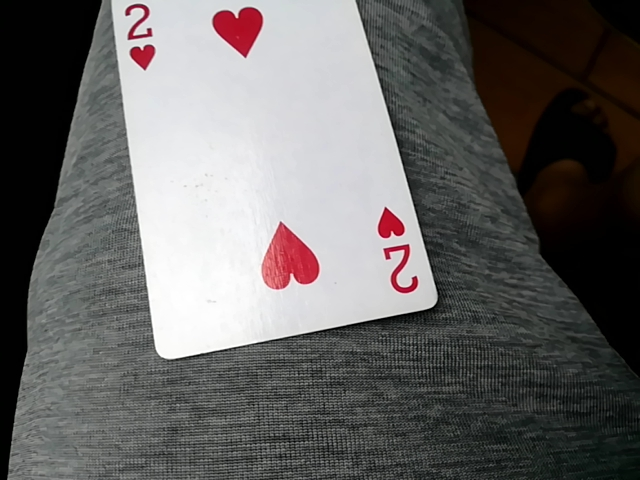hx 2: (111, 2, 432, 358)
